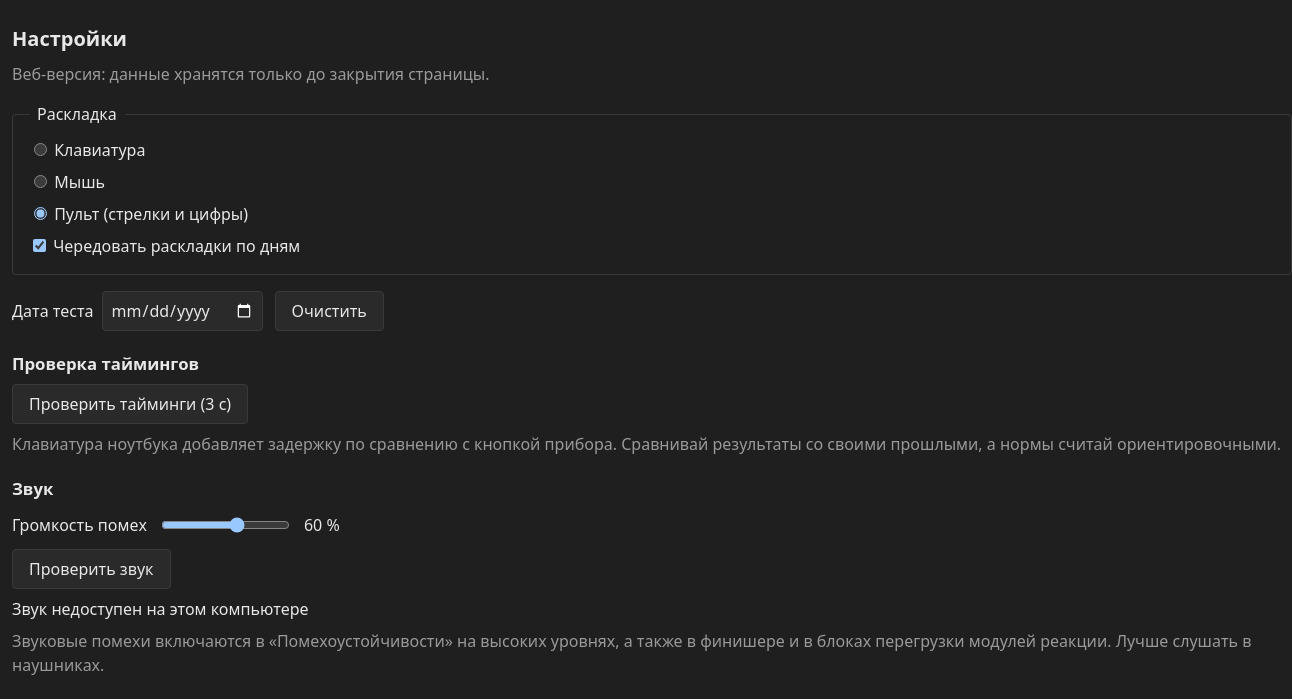
Test: Settings layout and date › shows the saved layout and saves a new one
Later steps or results of the test are not shown.
expect the radio button labelled "Пульт (стрелки и цифры)" is checked: met, box [34,207,47,220]
Step 1. Click the radio button labelled "Мышь" → (40, 182), box [34,175,47,188]
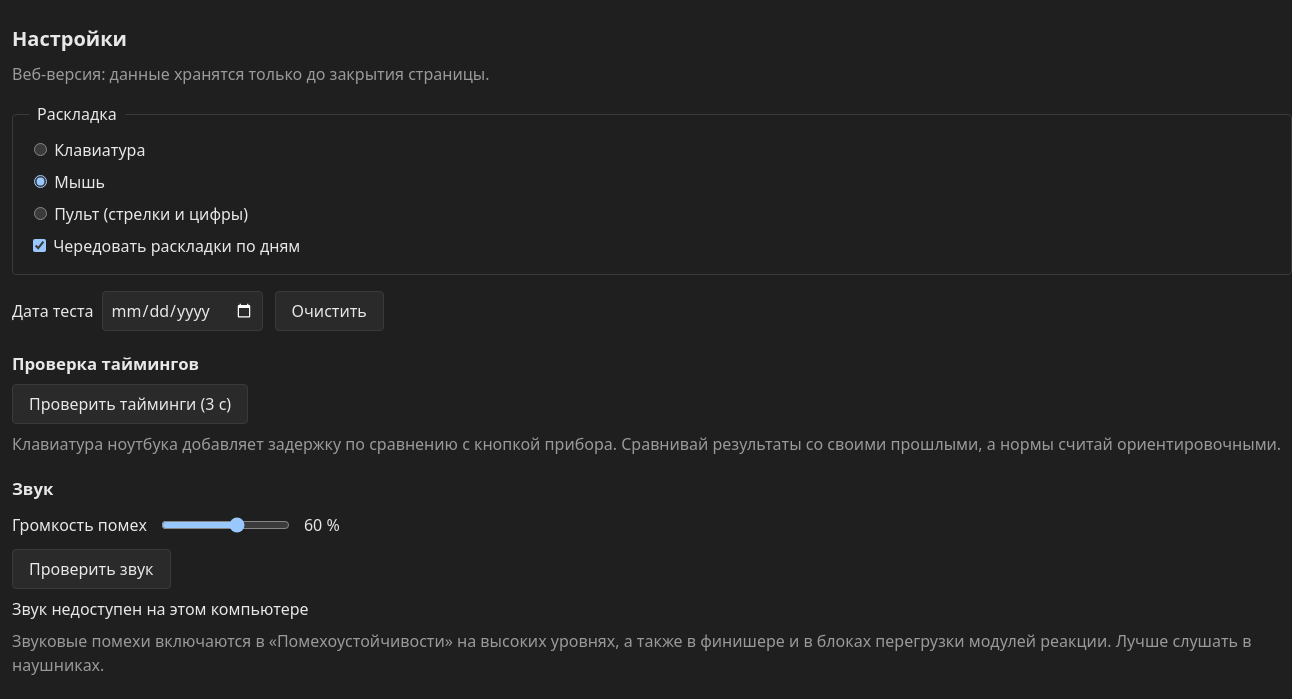
expect the radio button labelled "Мышь" is checked: met, box [34,175,47,188]
